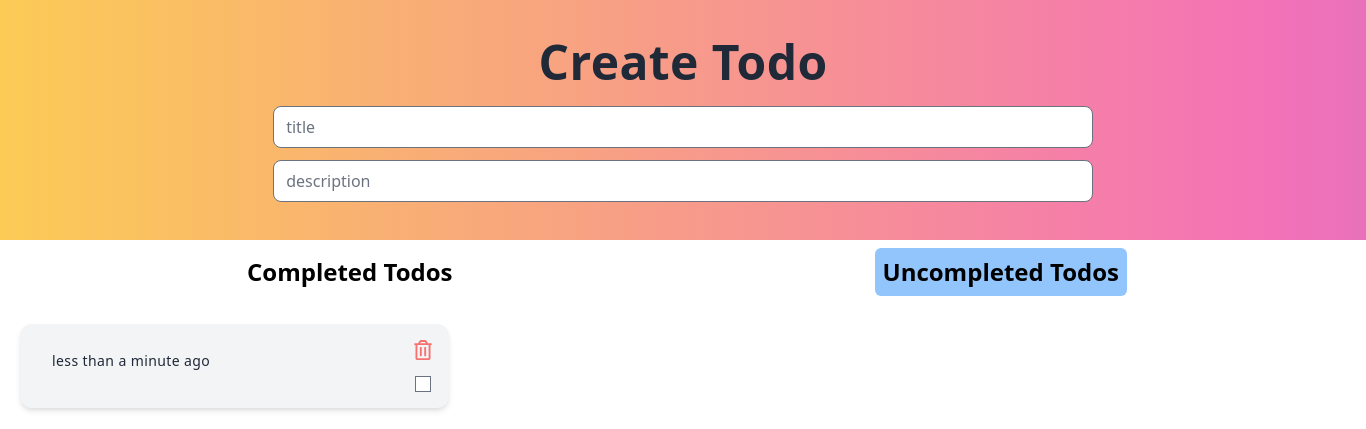
Test case: HomePage › should be possible to complete a todo
Check the checkbox with test id "check-todo" at (423,384), box [415,376,431,392]
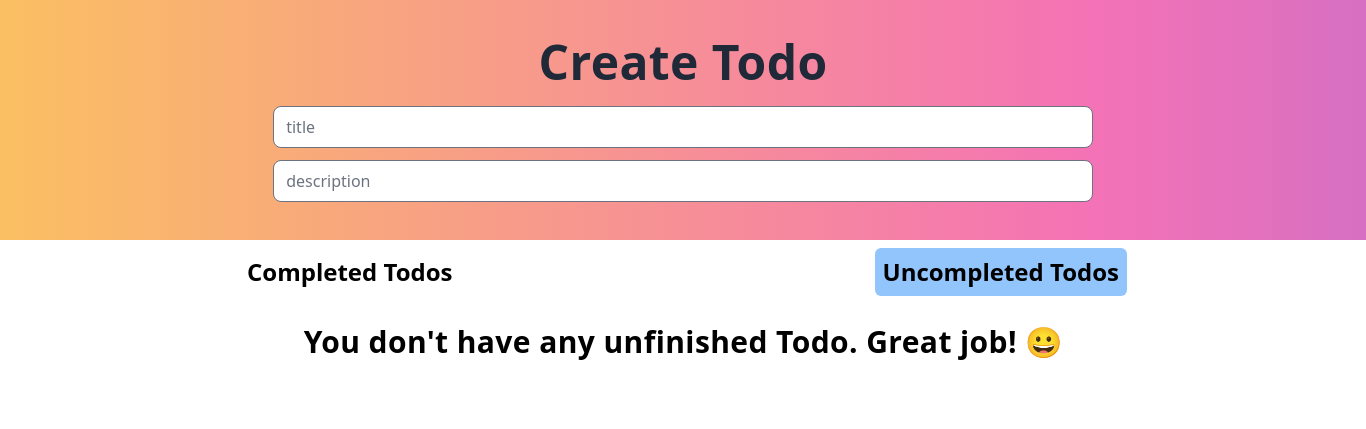
Expected: the element with test id "no-unfinished" is shown, [304,324,1063,360]
